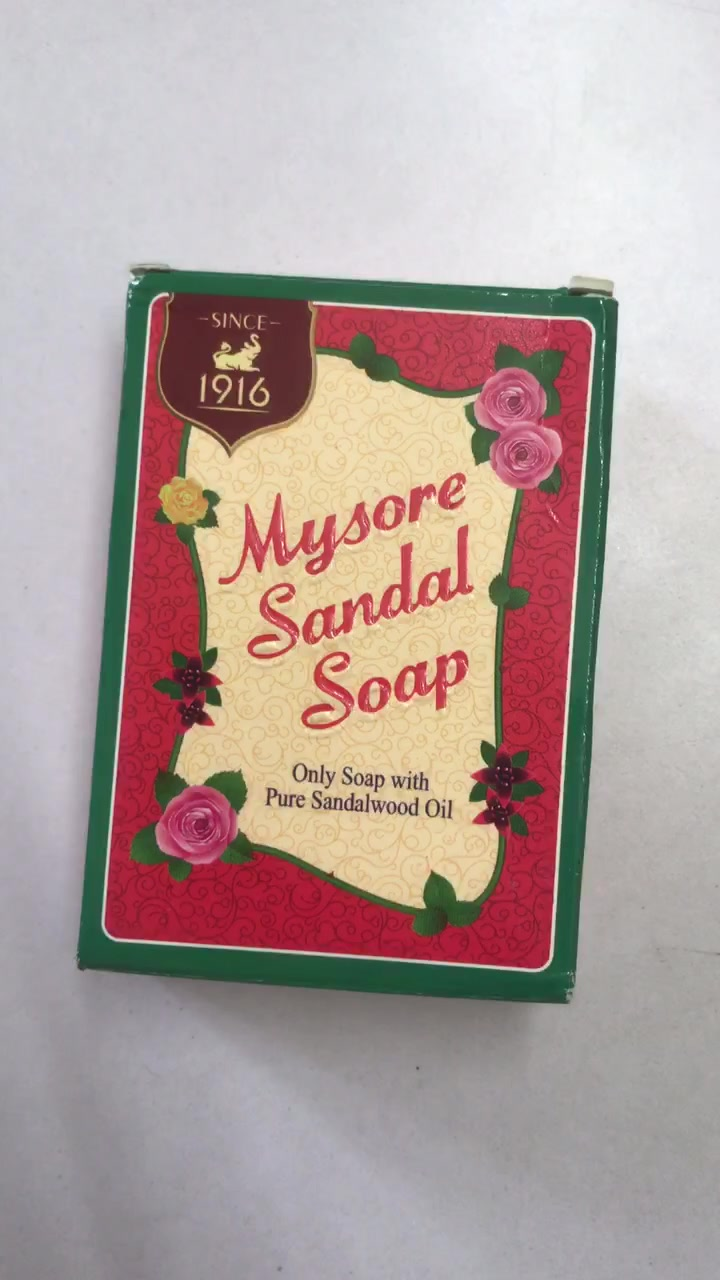mysore sandal soap: (78, 268, 596, 1005)
